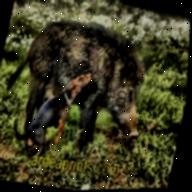boar: (9, 8, 174, 137), (20, 64, 114, 175)
